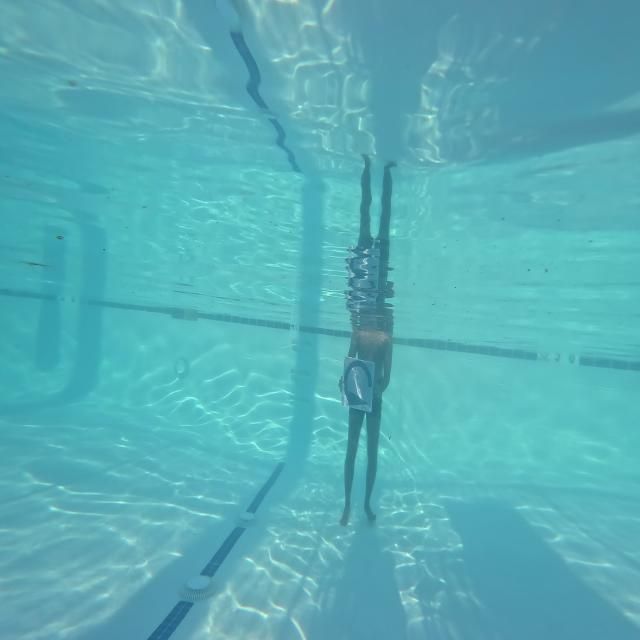blue_side: (342, 362, 374, 412)
